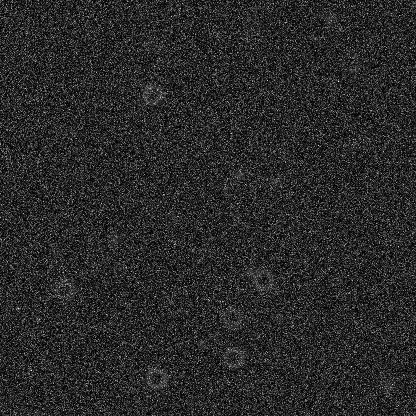Ring: (52, 277, 76, 301), (219, 305, 243, 329), (140, 82, 164, 106), (239, 13, 263, 37), (144, 366, 168, 390), (338, 50, 362, 74), (251, 267, 275, 291), (84, 244, 108, 268), (194, 106, 218, 130), (221, 345, 245, 369)
Spot: (231, 166, 247, 182), (142, 36, 158, 52), (243, 264, 259, 280), (380, 377, 396, 393), (324, 76, 340, 92), (348, 136, 364, 152), (158, 369, 174, 385), (217, 178, 233, 194), (321, 10, 337, 26), (105, 230, 121, 246), (193, 334, 209, 350), (266, 173, 282, 189)
